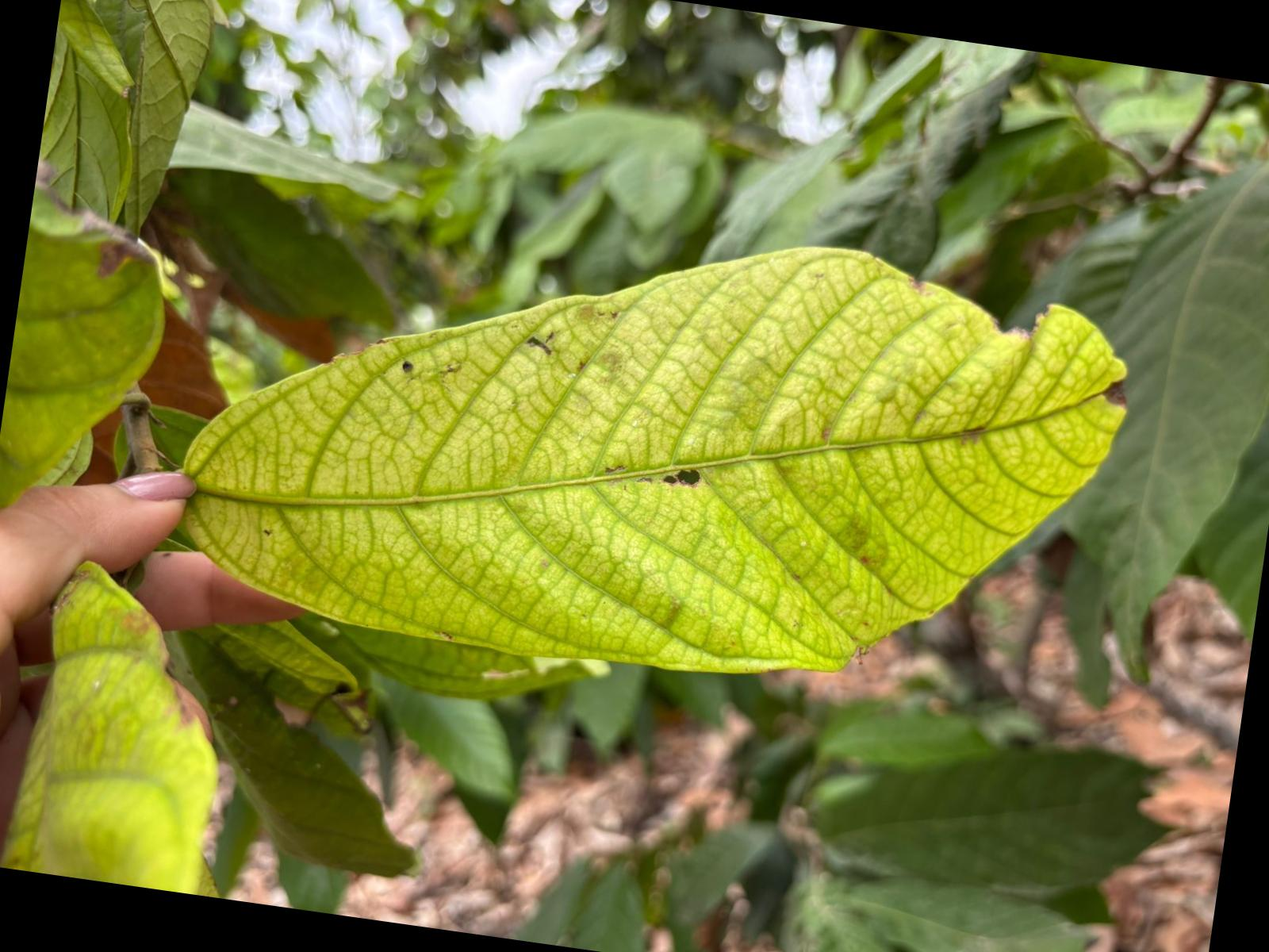Nitrogeno: (184, 248, 1125, 670)
